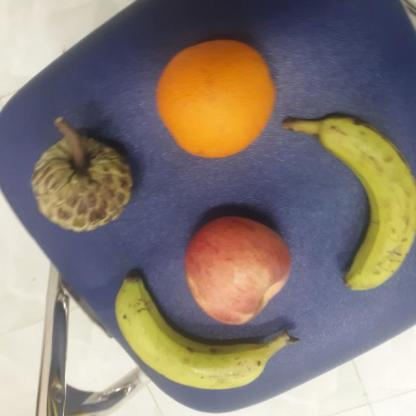annona: (30, 116, 135, 232)
apple: (182, 204, 292, 327)
banana: (105, 278, 297, 395), (304, 106, 416, 298)
orange: (157, 38, 278, 162)
